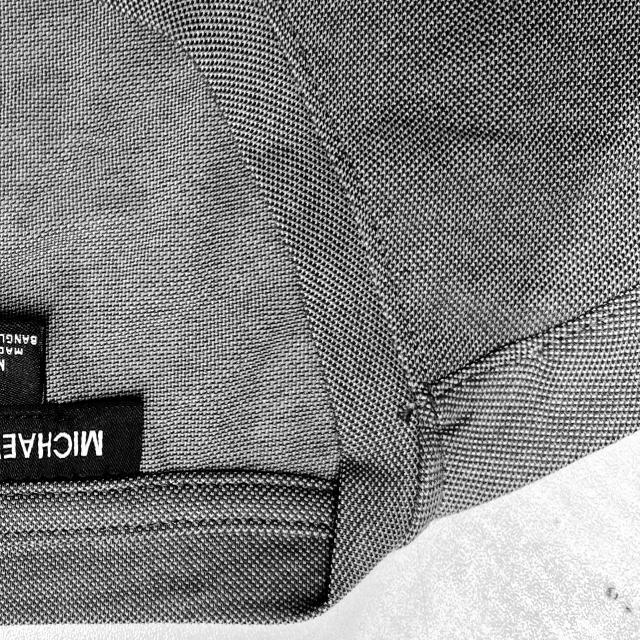Hole: (388, 390, 422, 433)
